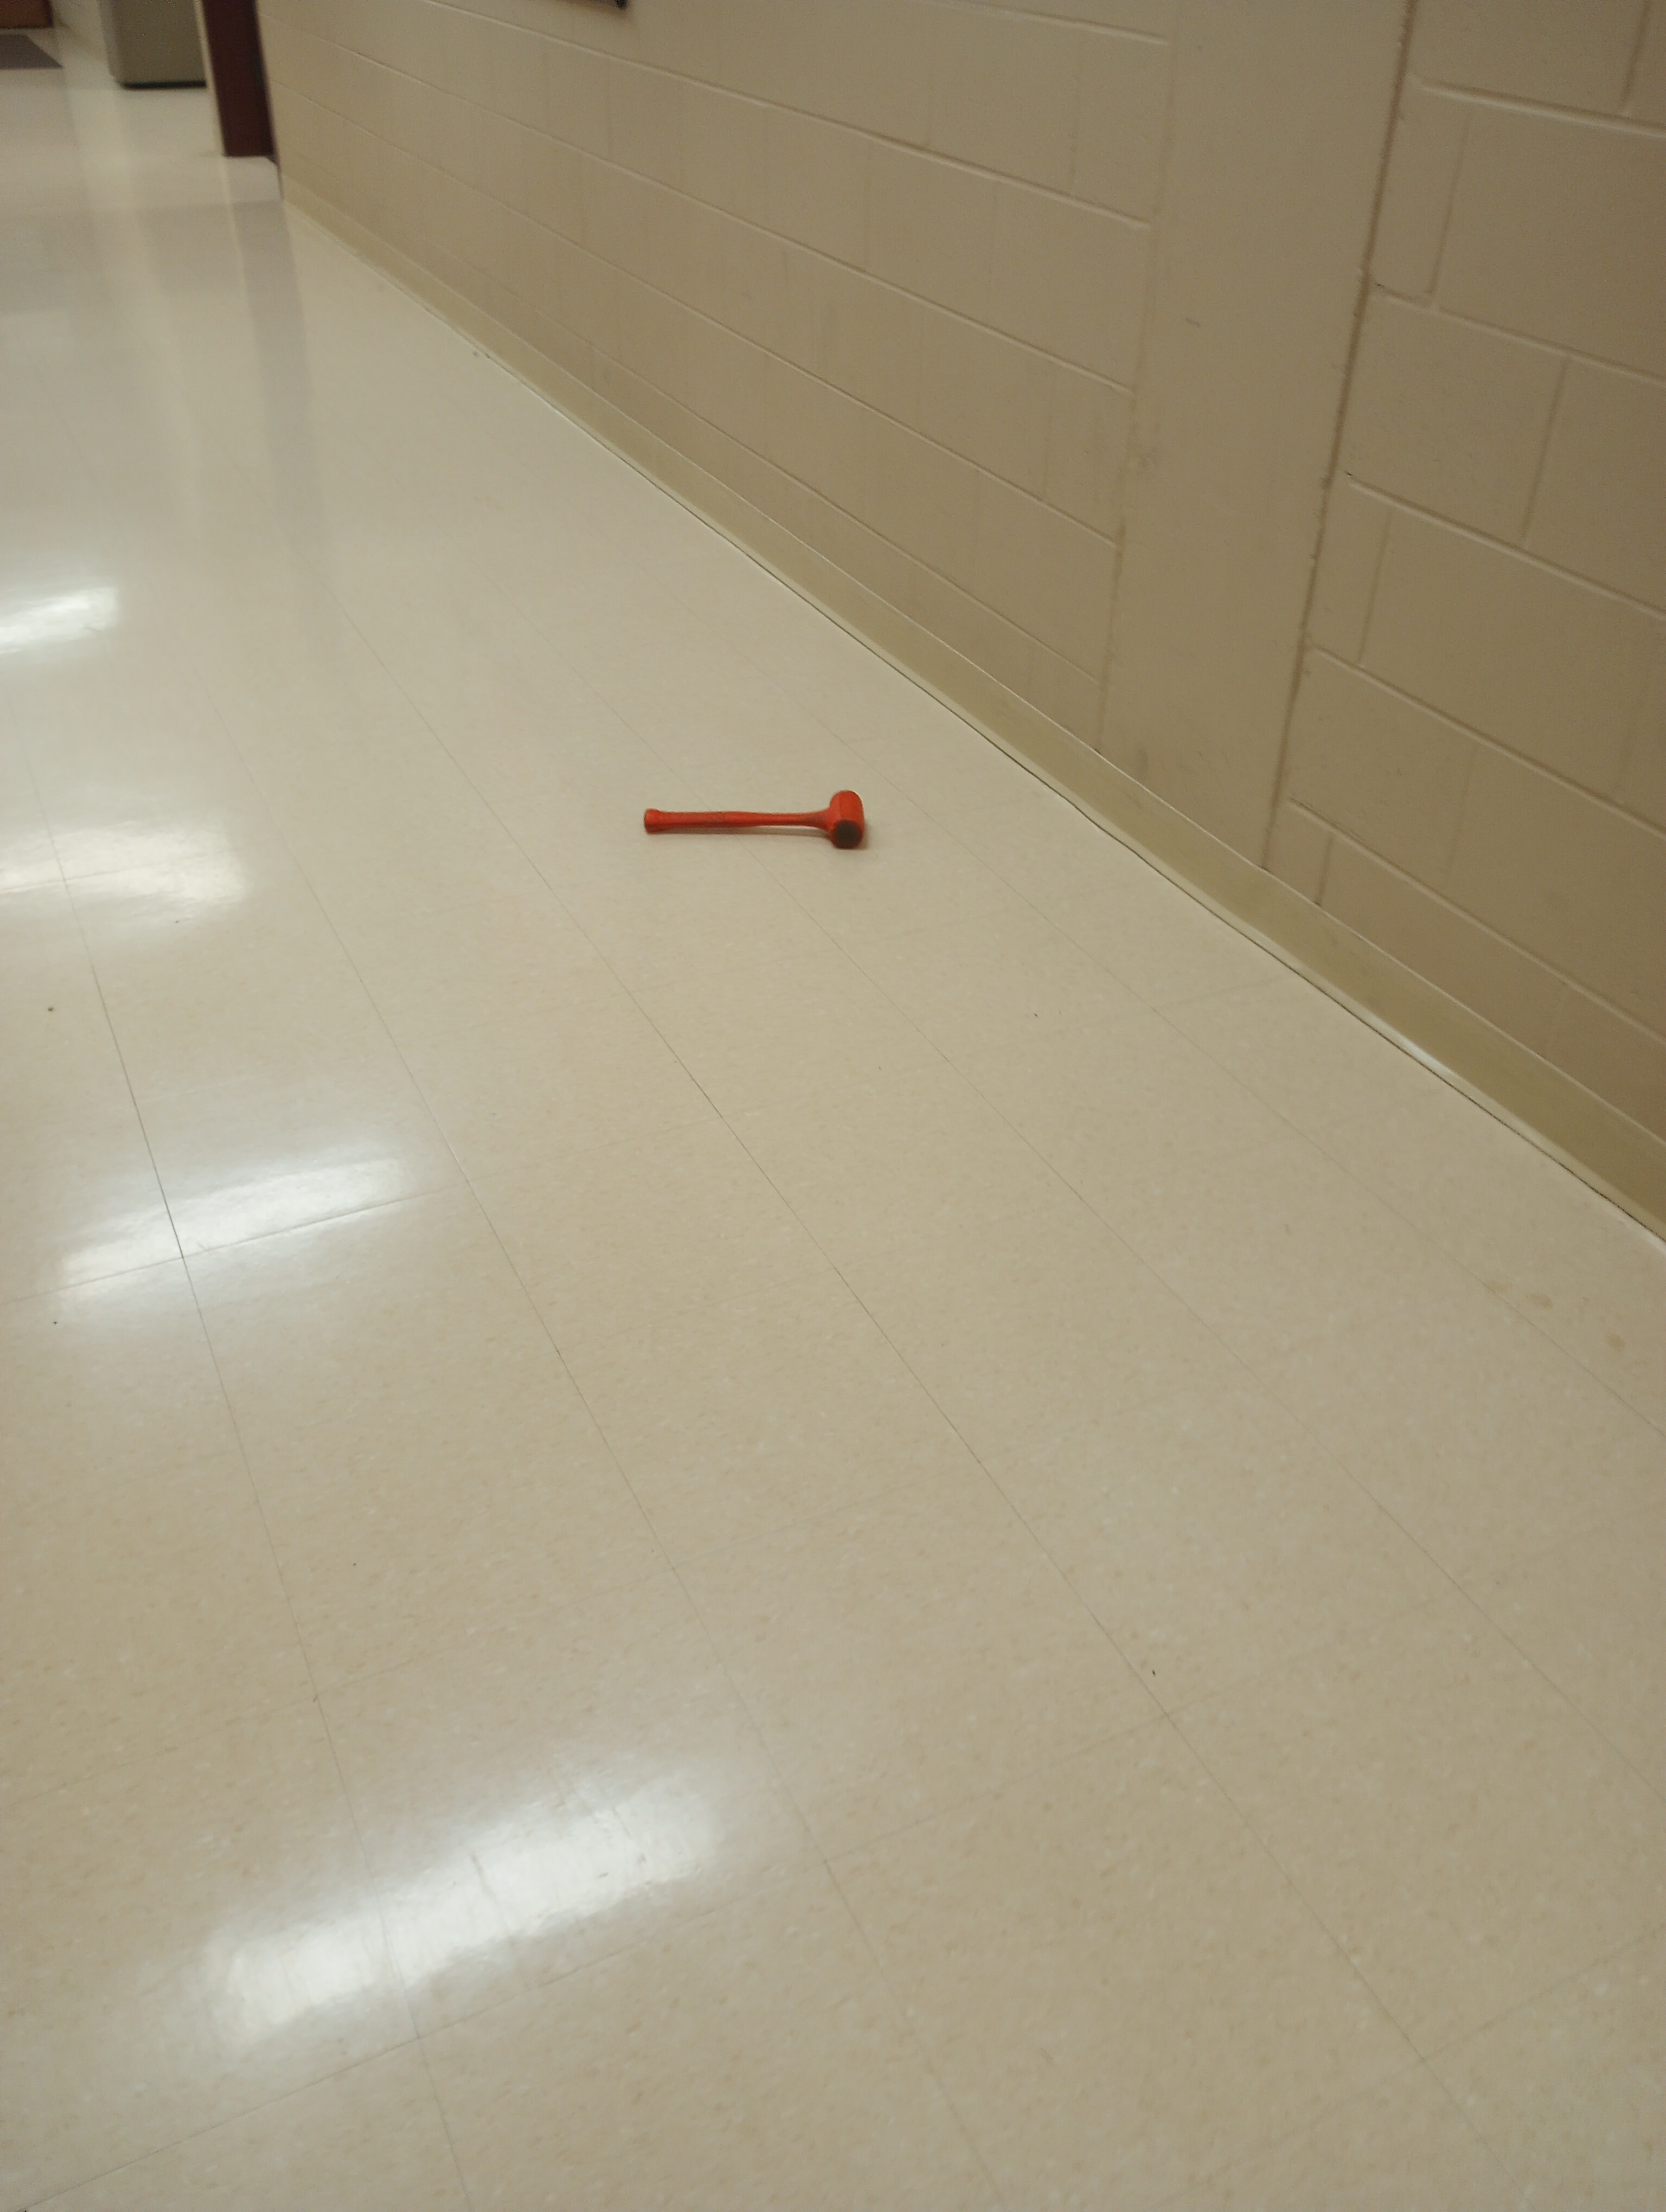hammer: (637, 776, 870, 867)
